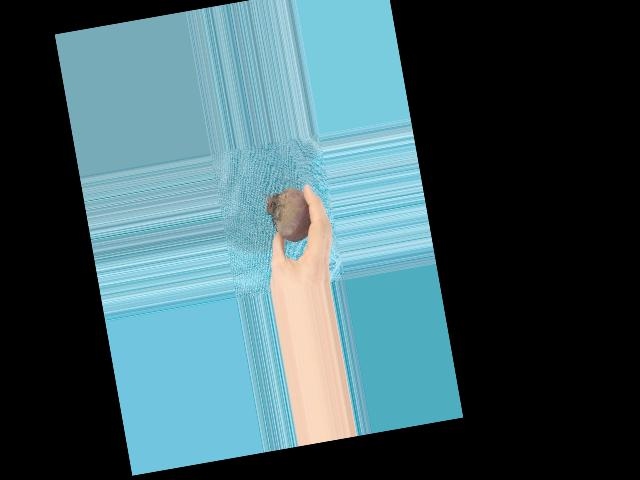beet: (262, 185, 313, 245)
